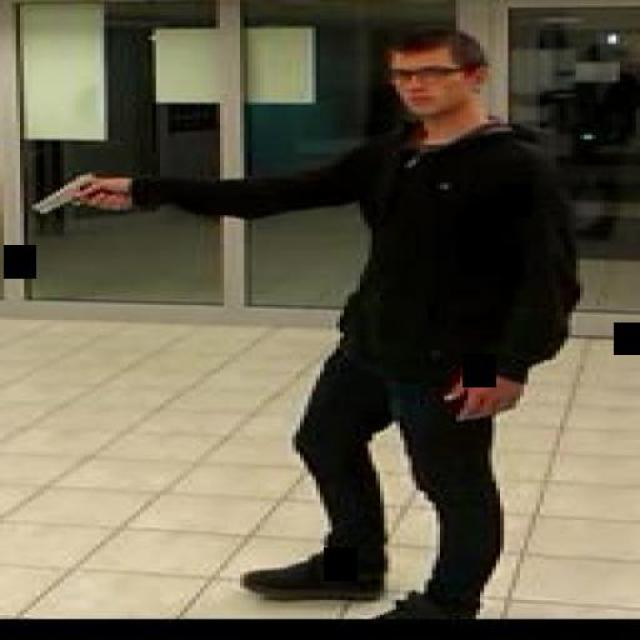gun: (20, 170, 124, 214)
